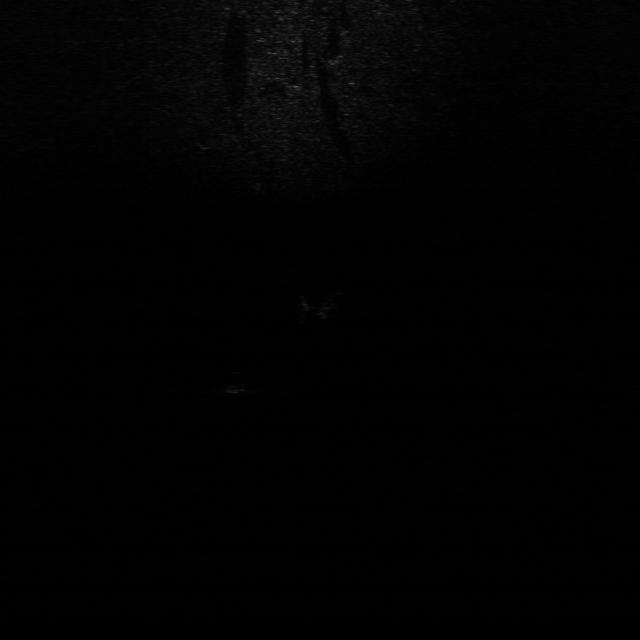ball: (216, 367, 252, 398)
human body: (298, 286, 349, 326)
